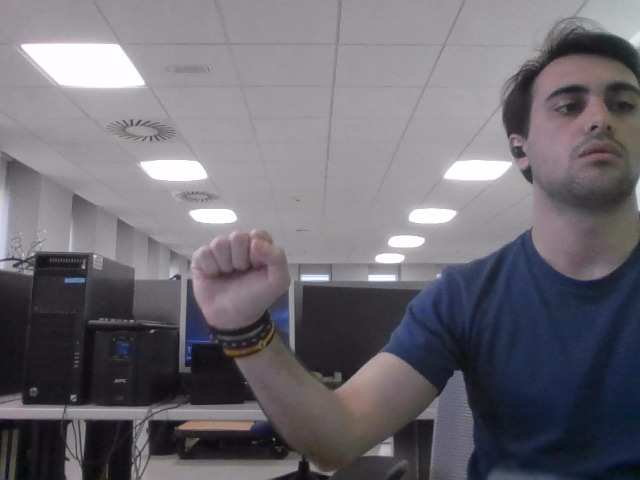Puño: (206, 234, 274, 305)
